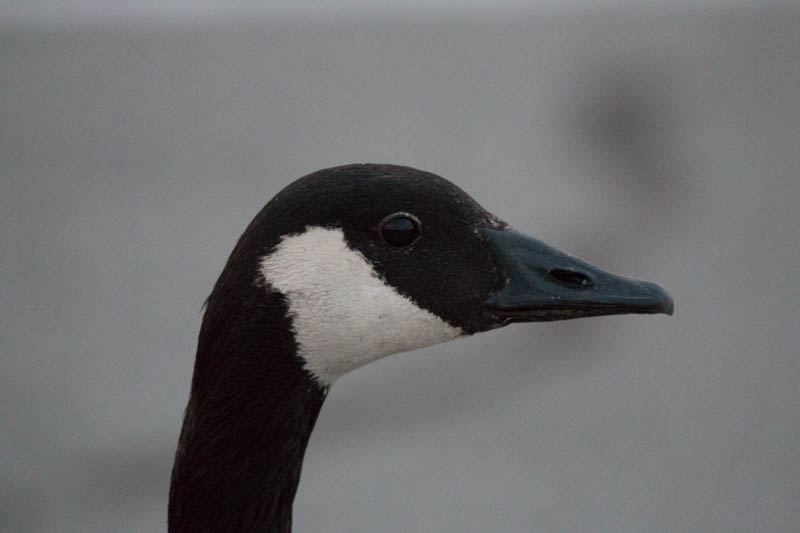goose-head: (202, 163, 674, 397)
